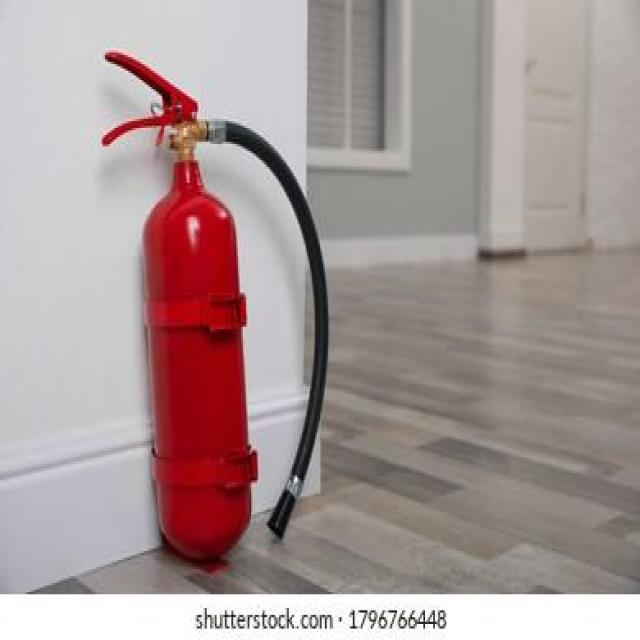fire_extinguisher: (95, 39, 330, 564)
